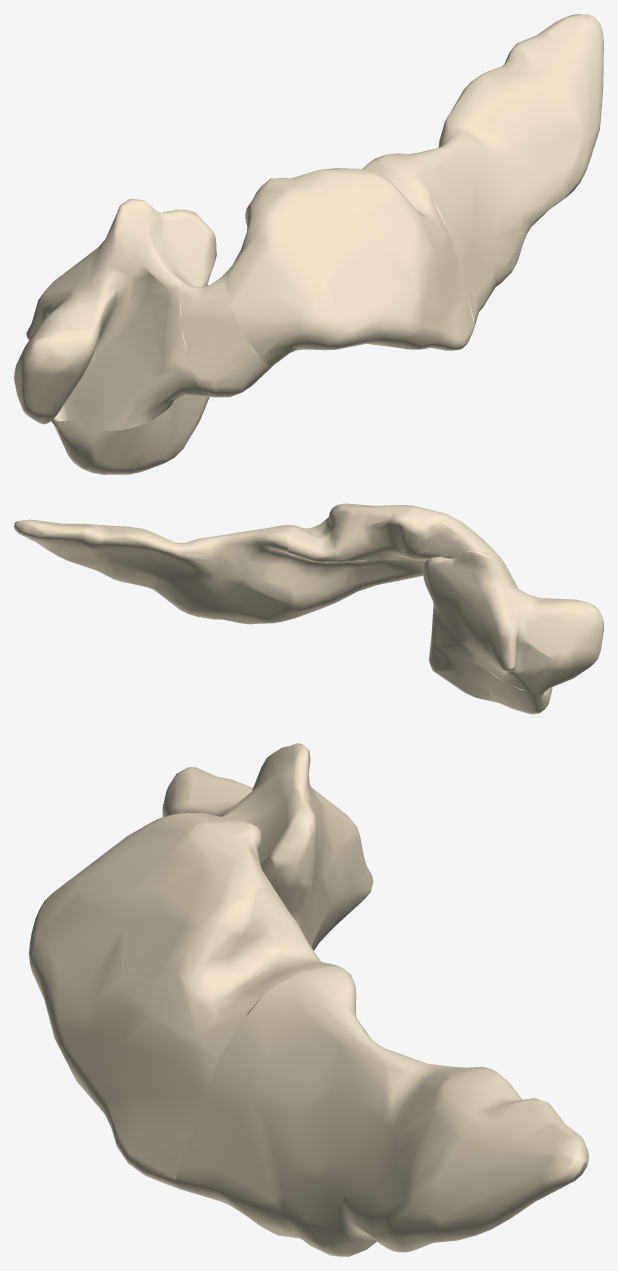
Rendered from pancreas-female.lod1.glb.
3 renders of one model, top to bottom at view 1: azimuth 30°, elevation 25°; view 2: azimuth 150°, elevation 25°; view 3: azimuth 270°, elevation 25°, orthographic. The views are drawn at different scales.
Visible parts, largest first — view 1: VH_F_body_of_pancreas, VH_F_tail_of_pancreas, VH_F_head_of_pancreas, VH_F_neck_of_pancreas, VH_F_ucinate_process1; view 2: VH_F_tail_of_pancreas, VH_F_head_of_pancreas, VH_F_body_of_pancreas, VH_F_ucinate_process1; view 3: VH_F_tail_of_pancreas, VH_F_body_of_pancreas, VH_F_head_of_pancreas.
Part boxes in pixels (left/top/right/bottom): VH_F_body_of_pancreas: left=225, top=161, right=474, bottom=365; VH_F_tail_of_pancreas: left=370, top=14, right=603, bottom=327; VH_F_head_of_pancreas: left=14, top=199, right=216, bottom=430; VH_F_neck_of_pancreas: left=179, top=272, right=273, bottom=397; VH_F_ucinate_process1: left=51, top=395, right=209, bottom=474; VH_F_tail_of_pancreas: left=14, top=519, right=294, bottom=624; VH_F_head_of_pancreas: left=423, top=549, right=603, bottom=693; VH_F_body_of_pancreas: left=287, top=503, right=497, bottom=617; VH_F_ucinate_process1: left=428, top=636, right=552, bottom=714; VH_F_tail_of_pancreas: left=176, top=966, right=589, bottom=1256; VH_F_body_of_pancreas: left=28, top=813, right=341, bottom=1189; VH_F_head_of_pancreas: left=162, top=743, right=373, bottom=983.
Size of the model in its own units: 0.172 by 0.0564 by 0.0844.
